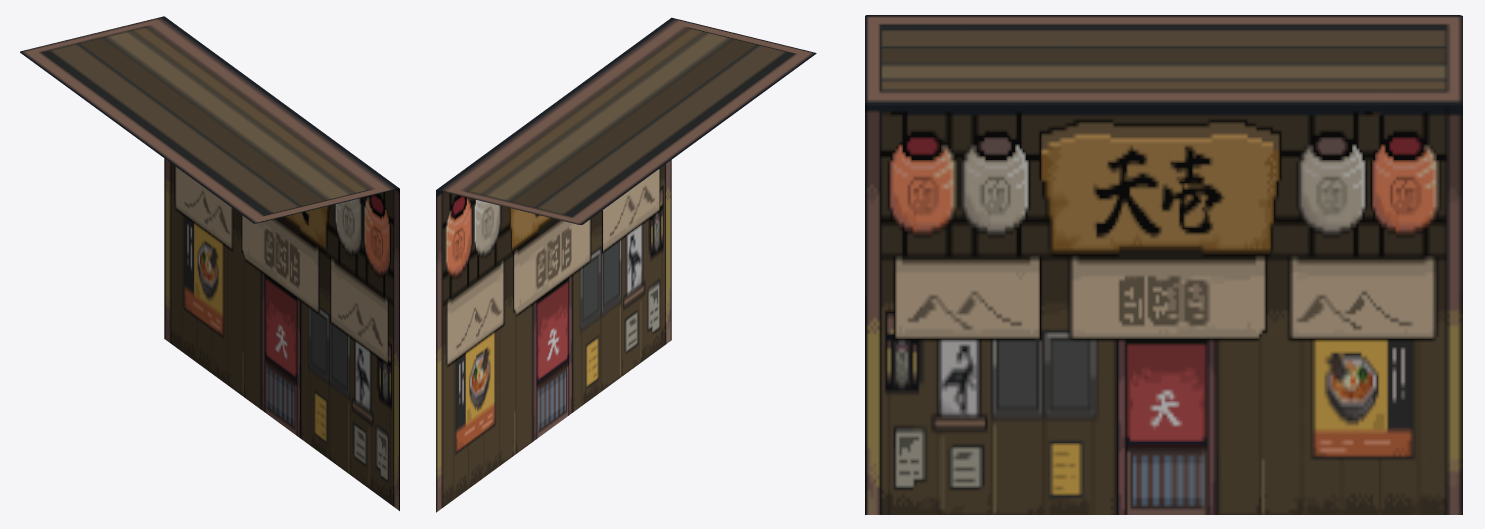
File: ramen.fbx
3 views of the same model, side by side, from view 1: azimuth 30°, elevation 25°; view 2: azimuth 150°, elevation 25°; view 3: azimuth 270°, elevation 25° (orthographic). The views are drawn at different scales.
Parts seen in each view (by area): view 1: ramen; view 2: ramen; view 3: ramen.
Boxes of the visible parts, x1,y1,x2,y2 form: ramen: [20, 16, 399, 510]; ramen: [436, 17, 816, 512]; ramen: [865, 15, 1462, 514].
Bounding box in the file's own units: 94.34 × 197 × 270.
1 material, 1 textured.
